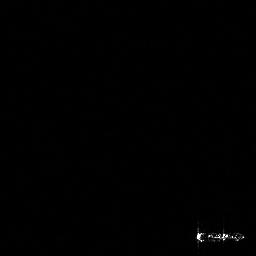ship: (194, 228, 246, 245)
